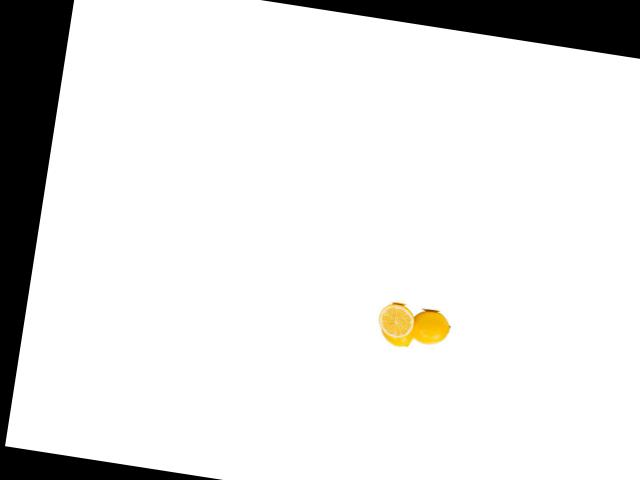lemon: (370, 309, 418, 351)
